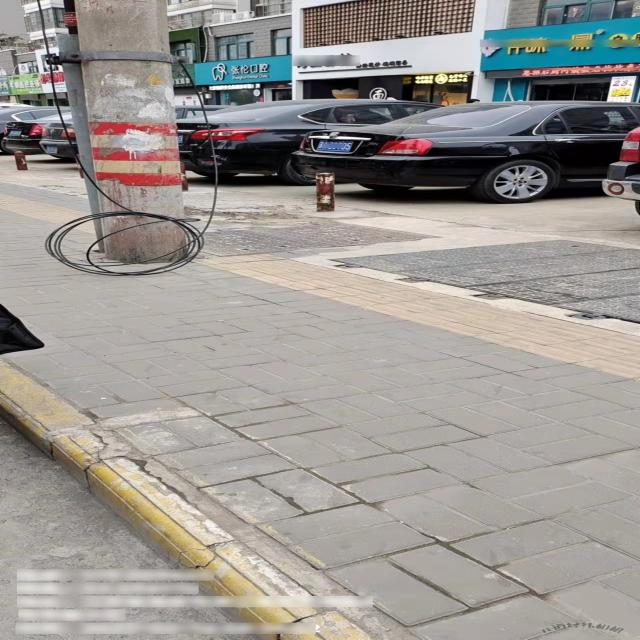Good: (326, 237, 640, 330), (191, 220, 436, 258)
